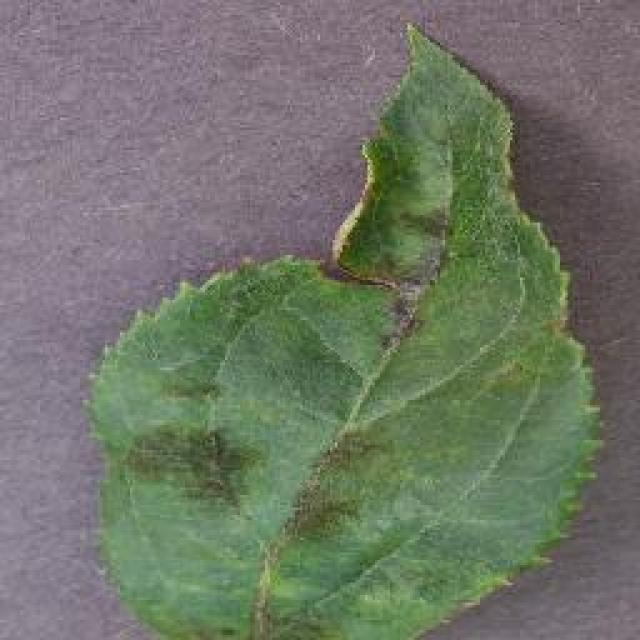apple scab disease: (83, 18, 605, 638)
